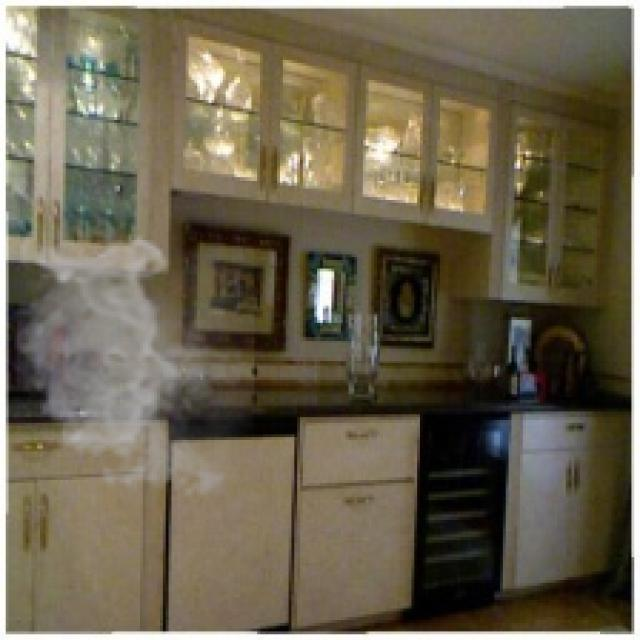Smoke: (6, 231, 254, 506)
